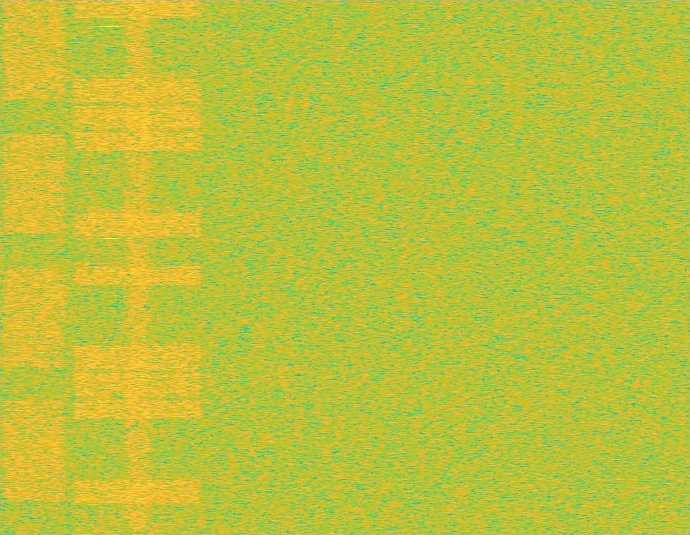5G: (0, 0, 69, 534)
DSSS: (122, 0, 154, 534)
LTE: (69, 0, 207, 534)
Radar: (104, 0, 117, 534)
